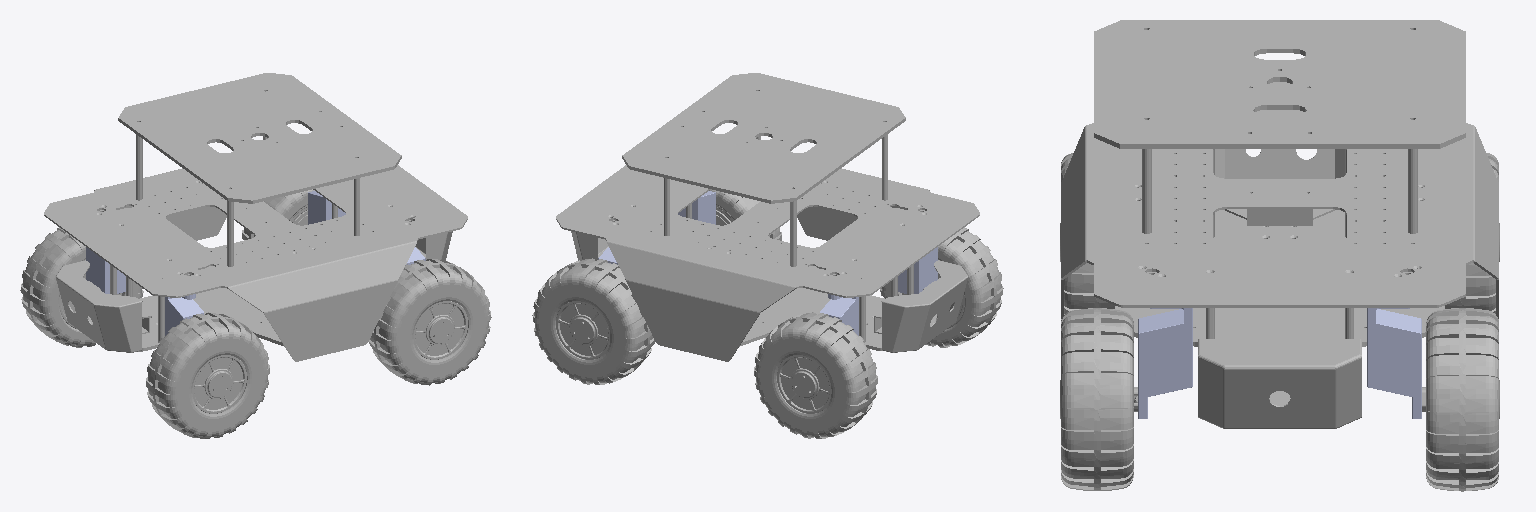
The robot description file, URDF, robot "JRS_URDF_20251215":
<?xml version="1.0" encoding="utf-8"?>
<!-- This URDF was automatically created by SolidWorks to URDF Exporter! Originally created by Stephen Brawner (brawner@gmail.com)
     Commit Version: 1.6.0-4-g7f85cfe  Build Version: 1.6.7995.38578
     For more information, please see http://wiki.ros.org/sw_urdf_exporter -->
<robot
  name="JRS_URDF_20251215">
  <link
    name="base_link">
    <inertial>
      <origin
        xyz="-0.0054998 0.00070291 0.059205"
        rpy="0 0 0" />
      <mass
        value="3.5886" />
      <inertia
        ixx="0.014112"
        ixy="-7.4583E-07"
        ixz="1.0616E-05"
        iyy="0.019988"
        iyz="-4.2557E-06"
        izz="0.032931" />
    </inertial>
    <visual>
      <origin
        xyz="0 0 0"
        rpy="0 0 0" />
      <geometry>
        <mesh
          filename="package://jrs_urdf_20251215/meshes/base_link.STL" />
      </geometry>
      <material
        name="">
        <color
          rgba="0.75294 0.75294 0.75294 1" />
      </material>
    </visual>
    <collision>
      <origin
        xyz="0 0 0"
        rpy="0 0 0" />
      <geometry>
        <mesh
          filename="package://jrs_urdf_20251215/meshes/base_link.STL" />
      </geometry>
    </collision>
  </link>
  <link
    name="ORIENT_LEFT_FRONT_LINK">
    <inertial>
      <origin
        xyz="0 -0.0099854 -0.059895"
        rpy="0 0 0" />
      <mass
        value="0.068757" />
      <inertia
        ixx="3.9839E-05"
        ixy="1.4896E-22"
        ixz="1.7338E-22"
        iyy="3.3827E-05"
        iyz="4.6998E-06"
        izz="1.4125E-05" />
    </inertial>
    <visual>
      <origin
        xyz="0 0 0"
        rpy="0 0 0" />
      <geometry>
        <mesh
          filename="package://jrs_urdf_20251215/meshes/ORIENT_LEFT_FRONT_LINK.STL" />
      </geometry>
      <material
        name="">
        <color
          rgba="0.79216 0.81961 0.93333 1" />
      </material>
    </visual>
    <collision>
      <origin
        xyz="0 0 0"
        rpy="0 0 0" />
      <geometry>
        <mesh
          filename="package://jrs_urdf_20251215/meshes/ORIENT_LEFT_FRONT_LINK.STL" />
      </geometry>
    </collision>
  </link>
  <joint
    name="ORIENT_LEFT_FRONT_JOINT"
    type="revolute">
    <origin
      xyz="0.14 0.096 0.0959"
      rpy="0 0 0" />
    <parent
      link="base_link" />
    <child
      link="ORIENT_LEFT_FRONT_LINK" />
    <axis
      xyz="0 0 -1" />
    <limit
      lower="0"
      upper="0.5236"
      effort="0"
      velocity="0" />
  </joint>
  <link
    name="WHEEL_LEFT_FRONT_LINK">
    <inertial>
      <origin
        xyz="-7.5771E-06 -0.027483 1.198E-06"
        rpy="0 0 0" />
      <mass
        value="0.29567" />
      <inertia
        ixx="0.00031004"
        ixy="2.3721E-09"
        ixz="1.6252E-08"
        iyy="0.0005043"
        iyz="-3.4814E-09"
        izz="0.00031012" />
    </inertial>
    <visual>
      <origin
        xyz="0 0 0"
        rpy="0 0 0" />
      <geometry>
        <mesh
          filename="package://jrs_urdf_20251215/meshes/WHEEL_LEFT_FRONT_LINK.STL" />
      </geometry>
      <material
        name="">
        <color
          rgba="0.75294 0.75294 0.75294 1" />
      </material>
    </visual>
    <collision>
      <origin
        xyz="0 0 0"
        rpy="0 0 0" />
      <geometry>
        <mesh
          filename="package://jrs_urdf_20251215/meshes/WHEEL_LEFT_FRONT_LINK.STL" />
      </geometry>
    </collision>
  </link>
  <joint
    name="WHEEL_LEFT_FRONT_JOINT"
    type="continuous">
    <origin
      xyz="0 0.069002 -0.1012"
      rpy="0 0 0" />
    <parent
      link="ORIENT_LEFT_FRONT_LINK" />
    <child
      link="WHEEL_LEFT_FRONT_LINK" />
    <axis
      xyz="0 -1 0" />
  </joint>
  <link
    name="ORIENT_LEFT_BACK_LINK">
    <inertial>
      <origin
        xyz="0 -0.0099854 -0.059895"
        rpy="0 0 0" />
      <mass
        value="0.068757" />
      <inertia
        ixx="3.9839E-05"
        ixy="-1.1516E-21"
        ixz="6.8204E-21"
        iyy="3.3827E-05"
        iyz="4.6998E-06"
        izz="1.4125E-05" />
    </inertial>
    <visual>
      <origin
        xyz="0 0 0"
        rpy="0 0 0" />
      <geometry>
        <mesh
          filename="package://jrs_urdf_20251215/meshes/ORIENT_LEFT_BACK_LINK.STL" />
      </geometry>
      <material
        name="">
        <color
          rgba="0.79216 0.81961 0.93333 1" />
      </material>
    </visual>
    <collision>
      <origin
        xyz="0 0 0"
        rpy="0 0 0" />
      <geometry>
        <mesh
          filename="package://jrs_urdf_20251215/meshes/ORIENT_LEFT_BACK_LINK.STL" />
      </geometry>
    </collision>
  </link>
  <joint
    name="ORIENT_LEFT_BACK_JOINT"
    type="revolute">
    <origin
      xyz="-0.14 0.096 0.0959"
      rpy="0 0 0" />
    <parent
      link="base_link" />
    <child
      link="ORIENT_LEFT_BACK_LINK" />
    <axis
      xyz="0 0 -1" />
    <limit
      lower="-0.5236"
      upper="0"
      effort="0"
      velocity="0" />
  </joint>
  <link
    name="WHEEL_LEFT_BACK_LINK">
    <inertial>
      <origin
        xyz="-7.5775E-06 -0.027483 1.1971E-06"
        rpy="0 0 0" />
      <mass
        value="0.29567" />
      <inertia
        ixx="0.00031004"
        ixy="2.3746E-09"
        ixz="1.625E-08"
        iyy="0.0005043"
        iyz="-3.476E-09"
        izz="0.00031012" />
    </inertial>
    <visual>
      <origin
        xyz="0 0 0"
        rpy="0 0 0" />
      <geometry>
        <mesh
          filename="package://jrs_urdf_20251215/meshes/WHEEL_LEFT_BACK_LINK.STL" />
      </geometry>
      <material
        name="">
        <color
          rgba="0.75294 0.75294 0.75294 1" />
      </material>
    </visual>
    <collision>
      <origin
        xyz="0 0 0"
        rpy="0 0 0" />
      <geometry>
        <mesh
          filename="package://jrs_urdf_20251215/meshes/WHEEL_LEFT_BACK_LINK.STL" />
      </geometry>
    </collision>
  </link>
  <joint
    name="WHEEL_LEFT_BACK_JOINT"
    type="continuous">
    <origin
      xyz="0 0.0690016176085788 -0.1012"
      rpy="0 0 0" />
    <parent
      link="ORIENT_LEFT_BACK_LINK" />
    <child
      link="WHEEL_LEFT_BACK_LINK" />
    <axis
      xyz="0 -1 0" />
  </joint>
  <link
    name="ORIENT_RIGHT_FRONT_LINK">
    <inertial>
      <origin
        xyz="-2.7756E-17 0.0099854 -0.059895"
        rpy="0 0 0" />
      <mass
        value="0.068757" />
      <inertia
        ixx="3.9839E-05"
        ixy="-5.2005E-22"
        ixz="-4.5492E-21"
        iyy="3.3827E-05"
        iyz="-4.6998E-06"
        izz="1.4125E-05" />
    </inertial>
    <visual>
      <origin
        xyz="0 0 0"
        rpy="0 0 0" />
      <geometry>
        <mesh
          filename="package://jrs_urdf_20251215/meshes/ORIENT_RIGHT_FRONT_LINK.STL" />
      </geometry>
      <material
        name="">
        <color
          rgba="0.79216 0.81961 0.93333 1" />
      </material>
    </visual>
    <collision>
      <origin
        xyz="0 0 0"
        rpy="0 0 0" />
      <geometry>
        <mesh
          filename="package://jrs_urdf_20251215/meshes/ORIENT_RIGHT_FRONT_LINK.STL" />
      </geometry>
    </collision>
  </link>
  <joint
    name="ORIENT_RIGHT_FRONT_JOINT"
    type="revolute">
    <origin
      xyz="0.14 -0.096 0.0959"
      rpy="0 0 0" />
    <parent
      link="base_link" />
    <child
      link="ORIENT_RIGHT_FRONT_LINK" />
    <axis
      xyz="0 0 -1" />
    <limit
      lower="-0.5236"
      upper="0"
      effort="0"
      velocity="0" />
  </joint>
  <link
    name="WHEEL_RIGHT_FRONT_LINK">
    <inertial>
      <origin
        xyz="7.5765E-06 0.027483 1.1972E-06"
        rpy="0 0 0" />
      <mass
        value="0.29567" />
      <inertia
        ixx="0.00031004"
        ixy="2.3685E-09"
        ixz="-1.6256E-08"
        iyy="0.0005043"
        iyz="3.4764E-09"
        izz="0.00031012" />
    </inertial>
    <visual>
      <origin
        xyz="0 0 0"
        rpy="0 0 0" />
      <geometry>
        <mesh
          filename="package://jrs_urdf_20251215/meshes/WHEEL_RIGHT_FRONT_LINK.STL" />
      </geometry>
      <material
        name="">
        <color
          rgba="0.75294 0.75294 0.75294 1" />
      </material>
    </visual>
    <collision>
      <origin
        xyz="0 0 0"
        rpy="0 0 0" />
      <geometry>
        <mesh
          filename="package://jrs_urdf_20251215/meshes/WHEEL_RIGHT_FRONT_LINK.STL" />
      </geometry>
    </collision>
  </link>
  <joint
    name="WHEEL_RIGHT_FRONT_JOINT"
    type="continuous">
    <origin
      xyz="0 -0.0690016176085785 -0.101200000000001"
      rpy="0 0 0" />
    <parent
      link="ORIENT_RIGHT_FRONT_LINK" />
    <child
      link="WHEEL_RIGHT_FRONT_LINK" />
    <axis
      xyz="0 1 0" />
  </joint>
  <link
    name="ORIENT_RIGHT_BACK_LINK">
    <inertial>
      <origin
        xyz="0 0.0099854 -0.059895"
        rpy="0 0 0" />
      <mass
        value="0.068757" />
      <inertia
        ixx="3.9839E-05"
        ixy="5.7144E-22"
        ixz="-1.2696E-21"
        iyy="3.3827E-05"
        iyz="-4.6998E-06"
        izz="1.4125E-05" />
    </inertial>
    <visual>
      <origin
        xyz="0 0 0"
        rpy="0 0 0" />
      <geometry>
        <mesh
          filename="package://jrs_urdf_20251215/meshes/ORIENT_RIGHT_BACK_LINK.STL" />
      </geometry>
      <material
        name="">
        <color
          rgba="0.79216 0.81961 0.93333 1" />
      </material>
    </visual>
    <collision>
      <origin
        xyz="0 0 0"
        rpy="0 0 0" />
      <geometry>
        <mesh
          filename="package://jrs_urdf_20251215/meshes/ORIENT_RIGHT_BACK_LINK.STL" />
      </geometry>
    </collision>
  </link>
  <joint
    name="ORIENT_RIGHT_BACK_JOINT"
    type="revolute">
    <origin
      xyz="-0.14 -0.096 0.0959"
      rpy="0 0 0" />
    <parent
      link="base_link" />
    <child
      link="ORIENT_RIGHT_BACK_LINK" />
    <axis
      xyz="0 0 -1" />
    <limit
      lower="0"
      upper="0.5236"
      effort="0"
      velocity="0" />
  </joint>
  <link
    name="WHEEL_RIGHT_BACK_LINK">
    <inertial>
      <origin
        xyz="7.5771E-06 0.027483 1.198E-06"
        rpy="0 0 0" />
      <mass
        value="0.29567" />
      <inertia
        ixx="0.00031004"
        ixy="2.3721E-09"
        ixz="-1.6252E-08"
        iyy="0.0005043"
        iyz="3.4814E-09"
        izz="0.00031012" />
    </inertial>
    <visual>
      <origin
        xyz="0 0 0"
        rpy="0 0 0" />
      <geometry>
        <mesh
          filename="package://jrs_urdf_20251215/meshes/WHEEL_RIGHT_BACK_LINK.STL" />
      </geometry>
      <material
        name="">
        <color
          rgba="0.75294 0.75294 0.75294 1" />
      </material>
    </visual>
    <collision>
      <origin
        xyz="0 0 0"
        rpy="0 0 0" />
      <geometry>
        <mesh
          filename="package://jrs_urdf_20251215/meshes/WHEEL_RIGHT_BACK_LINK.STL" />
      </geometry>
    </collision>
  </link>
  <joint
    name="WHEEL_RIGHT_BACK_JOINT"
    type="continuous">
    <origin
      xyz="0 -0.0690016176085785 -0.101199999999999"
      rpy="0 0 0" />
    <parent
      link="ORIENT_RIGHT_BACK_LINK" />
    <child
      link="WHEEL_RIGHT_BACK_LINK" />
    <axis
      xyz="0 1 0" />
  </joint>
</robot>

--- Render facts (derived) ---
The picture shows the robot from 3 angles, left to right: view 1: azimuth 30°, elevation 25°; view 2: azimuth 150°, elevation 25°; view 3: azimuth 270°, elevation 25°; orthographic projection.
Model JRS_URDF_20251215 with 9 links and 8 joints (4 revolute, 4 continuous), rooted at base_link, posed all joints at 0.
Links seen in each view (by area): view 1: base_link, WHEEL_RIGHT_BACK_LINK, WHEEL_RIGHT_FRONT_LINK, WHEEL_LEFT_BACK_LINK, WHEEL_LEFT_FRONT_LINK, ORIENT_LEFT_BACK_LINK, ORIENT_RIGHT_BACK_LINK, ORIENT_LEFT_FRONT_LINK; view 2: base_link, WHEEL_LEFT_BACK_LINK, WHEEL_LEFT_FRONT_LINK, WHEEL_RIGHT_BACK_LINK, WHEEL_RIGHT_FRONT_LINK, ORIENT_RIGHT_BACK_LINK, ORIENT_LEFT_BACK_LINK, ORIENT_RIGHT_FRONT_LINK; view 3: base_link, WHEEL_LEFT_FRONT_LINK, WHEEL_RIGHT_FRONT_LINK, ORIENT_LEFT_FRONT_LINK, ORIENT_RIGHT_FRONT_LINK, WHEEL_RIGHT_BACK_LINK, WHEEL_LEFT_BACK_LINK.
Link boxes in pixels (x1,y1,x2,y2): base_link: (44, 73, 467, 361); WHEEL_RIGHT_BACK_LINK: (146, 312, 269, 438); WHEEL_RIGHT_FRONT_LINK: (369, 259, 491, 385); WHEEL_LEFT_BACK_LINK: (20, 227, 143, 347); WHEEL_LEFT_FRONT_LINK: (242, 189, 314, 239); ORIENT_LEFT_BACK_LINK: (86, 247, 125, 293); ORIENT_RIGHT_BACK_LINK: (165, 294, 203, 335); ORIENT_LEFT_FRONT_LINK: (308, 191, 345, 224); base_link: (556, 73, 979, 361); WHEEL_LEFT_BACK_LINK: (754, 312, 877, 438); WHEEL_LEFT_FRONT_LINK: (532, 258, 654, 384); WHEEL_RIGHT_BACK_LINK: (880, 227, 1003, 347); WHEEL_RIGHT_FRONT_LINK: (709, 189, 781, 240); ORIENT_RIGHT_BACK_LINK: (898, 247, 937, 293); ORIENT_LEFT_BACK_LINK: (820, 294, 858, 335); ORIENT_RIGHT_FRONT_LINK: (678, 191, 715, 224); base_link: (1061, 20, 1498, 428); WHEEL_LEFT_FRONT_LINK: (1422, 308, 1499, 491); WHEEL_RIGHT_FRONT_LINK: (1060, 308, 1137, 490); ORIENT_LEFT_FRONT_LINK: (1367, 308, 1421, 418); ORIENT_RIGHT_FRONT_LINK: (1138, 308, 1192, 418); WHEEL_RIGHT_BACK_LINK: (1060, 153, 1114, 313); WHEEL_LEFT_BACK_LINK: (1445, 153, 1499, 313).
Bounding box of the posed robot: 0.4589 × 0.33 × 0.2693 m (x, y, z).
Meshes: 9 distinct files referenced, 9 mesh visuals loaded (9 binary STL).
